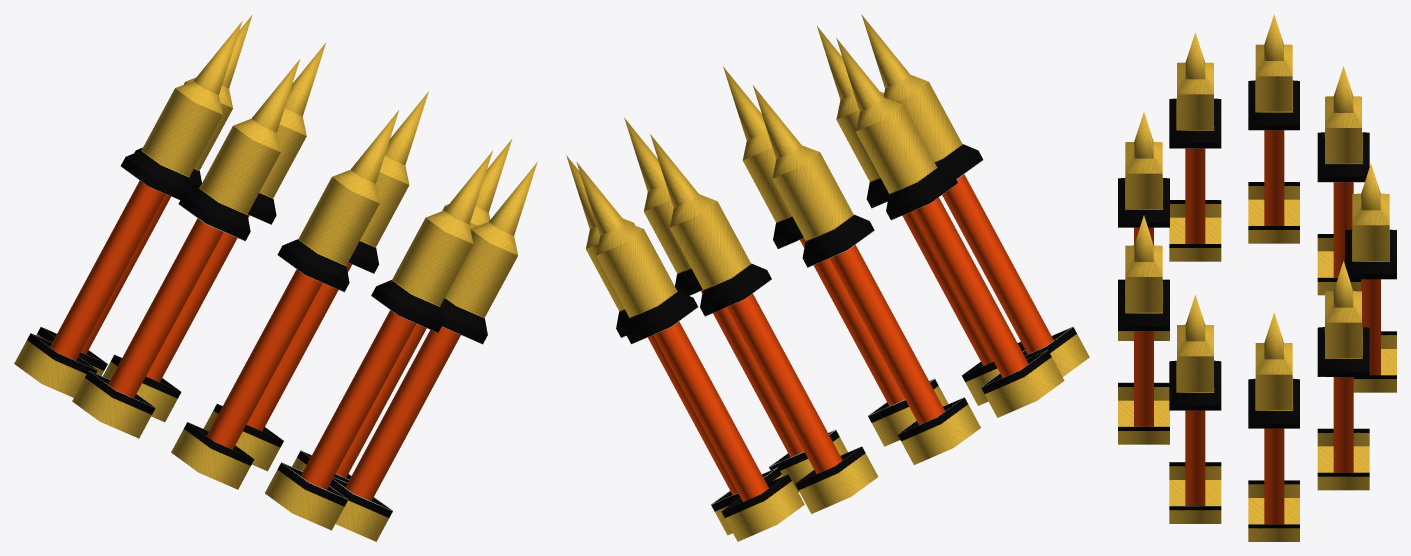
File: mdl_smgAmmoItem_metal.fbx
3 renders of one model, left to right at view 1: azimuth 30°, elevation 25°; view 2: azimuth 150°, elevation 25°; view 3: azimuth 270°, elevation 25°, orthographic. The views are drawn at different scales.
Parts seen in each view (by area): view 1: smgAmmoItem_metal; view 2: smgAmmoItem_metal; view 3: smgAmmoItem_metal.
Boxes of the visible parts, x1,y1,x2,y2 form: smgAmmoItem_metal: (14, 14, 537, 541); smgAmmoItem_metal: (566, 14, 1089, 541); smgAmmoItem_metal: (1118, 14, 1396, 541).
Bounding box in the file's own units: 0.1114 × 0.1123 × 0.0586.
